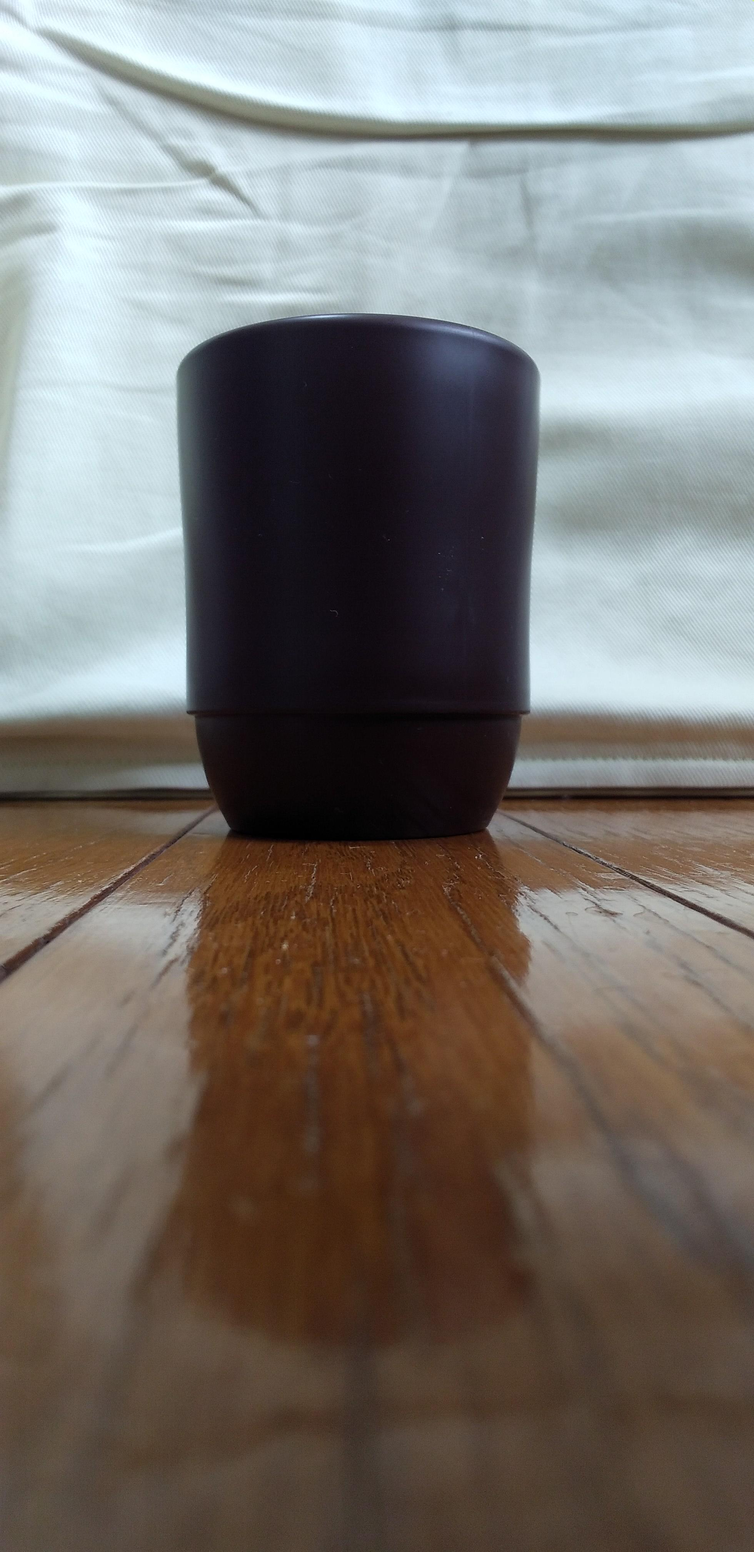mug-real100-3d100: (178, 316, 539, 839)
